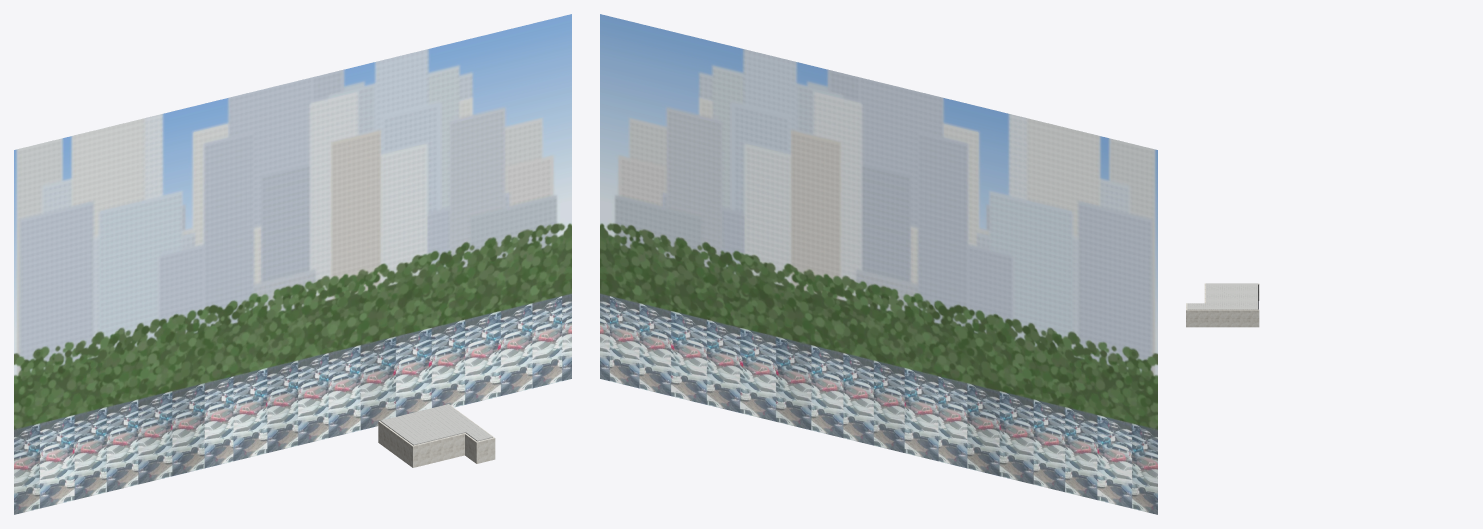
File: room.glb
3 renders of one model, left to right at view 1: azimuth 30°, elevation 25°; view 2: azimuth 150°, elevation 25°; view 3: azimuth 270°, elevation 25°, orthographic. The views are drawn at different scales.
Parts seen in each view (by area): view 1: window_backdrop, ceiling, wall_south, wall_west; view 2: window_backdrop; view 3: ceiling, wall_east.
Part boxes in pixels (box(x1,y1,x2,y2)): window_backdrop: box(14, 14, 571, 514); ceiling: box(380, 404, 480, 445); wall_south: box(414, 433, 465, 467); wall_west: box(378, 421, 414, 467); window_backdrop: box(600, 14, 1157, 514); ceiling: box(1206, 283, 1257, 309); wall_east: box(1186, 309, 1259, 327).
Size of the model in its own units: 72 by 45 by 40.2.
91 materials, 22 textured.
